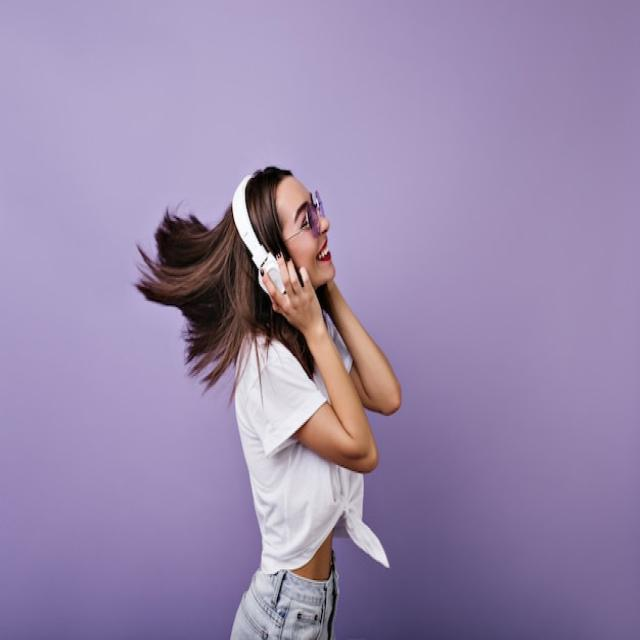Headphone: (232, 164, 288, 300)
